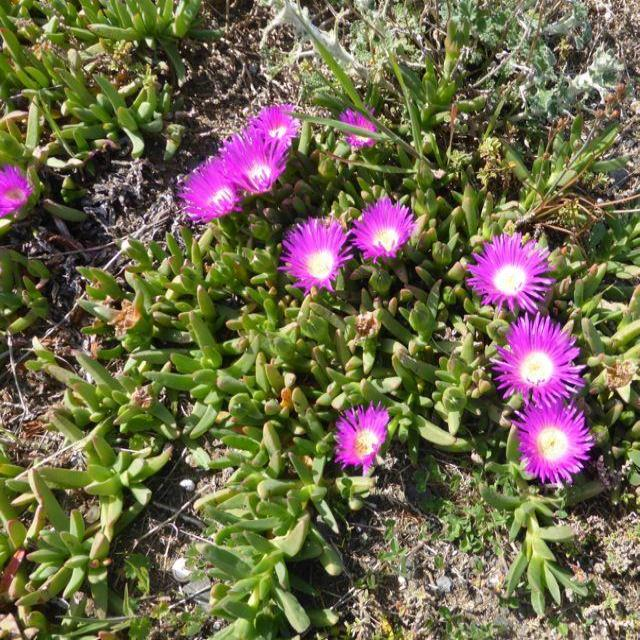organic waste: (488, 308, 598, 414), (465, 231, 567, 317), (512, 407, 596, 489), (166, 144, 244, 221), (282, 215, 360, 292), (213, 114, 283, 198), (328, 398, 398, 467), (353, 196, 418, 264), (248, 88, 302, 162), (328, 103, 380, 161), (5, 156, 43, 231)
